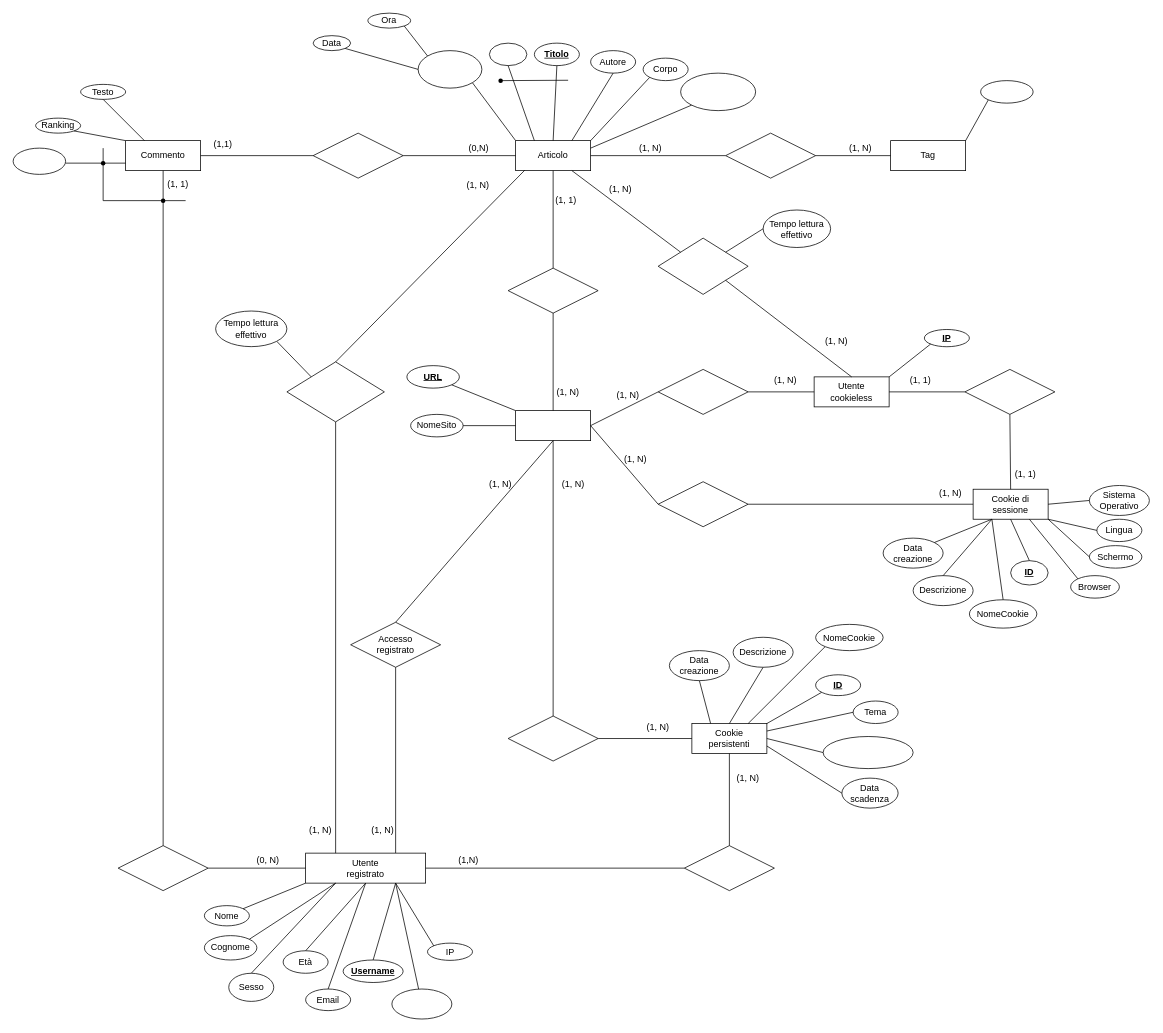
The diagram is 1163 pixels wide and 1033 high, and some of its shapes have lost their labels. Each missing label, with the centre of its shape:
Accesso anonimo: (702,391)
Assegnazione: (1009,391)
Contenuto: (552,290)
Data di scrittura: (39,160)
Geolocalizzazione: (867,752)
Indice: (770,155)
Keywords: (1006,91)
Lettura Anonima: (702,265)
Lettura Registrata: (335,391)
Link: (508,54)
Numero di commenti: (421,1003)
Possiede anonimo: (702,504)
Possiede registrato: (552,738)
Profilazione: (729,868)
Recensione: (357,155)
Scrittura: (162,868)
Sito: (553,425)
Tempo lettura stimato: (718,91)
Timestamp creazione: (449,69)
